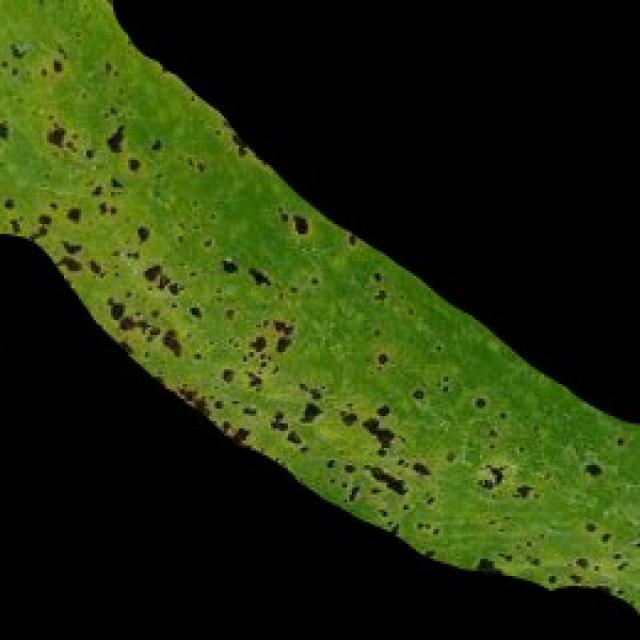mite: (214, 251, 241, 278), (578, 455, 606, 480), (290, 212, 308, 234), (219, 256, 236, 273), (470, 394, 487, 409)
